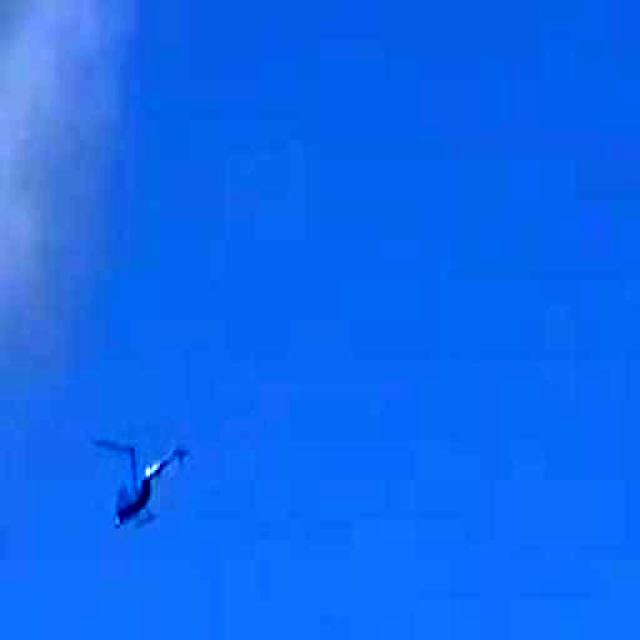drone: (62, 405, 211, 559)
